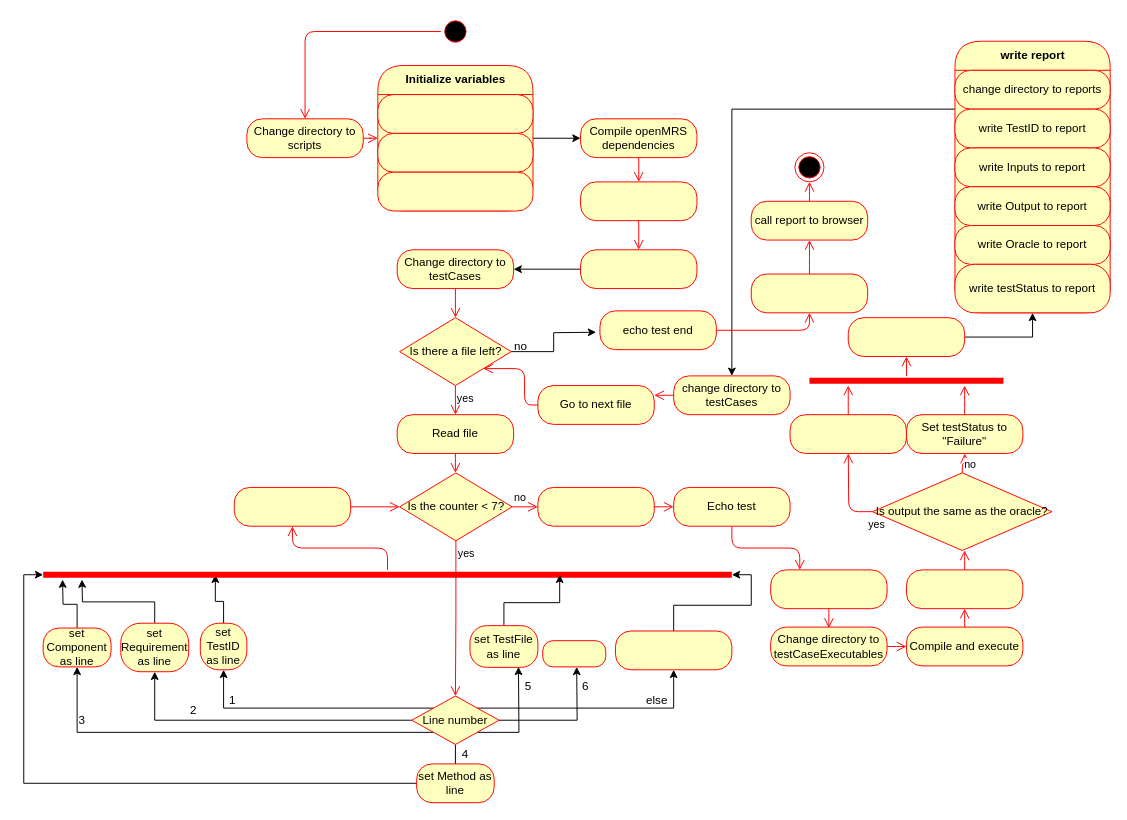
Image size: 1127x820. Some labels were removed from this diagram. The shapes that lost their labels are listed below. From the top down, each one's centre as x and y in pixels, then its label:
the point at 455,113: Initialize input variables
the point at 455,152: Initialize helper variables
the point at 455,191: Initialize counter variable
the point at 638,201: Remove temp files
the point at 638,269: Create test report
the point at 809,293: finalize and format reports
the point at 906,336: Echo testStatus
the point at 847,433: set testStatus to "Success"
the point at 292,506: Increment counter by 1
the point at 595,506: Set counter to 1
the point at 828,589: Format needed files
the point at 964,589: Go to home directory and write output file
the point at 574,653: set Inputs as line
the point at 673,650: Echo "Error"
